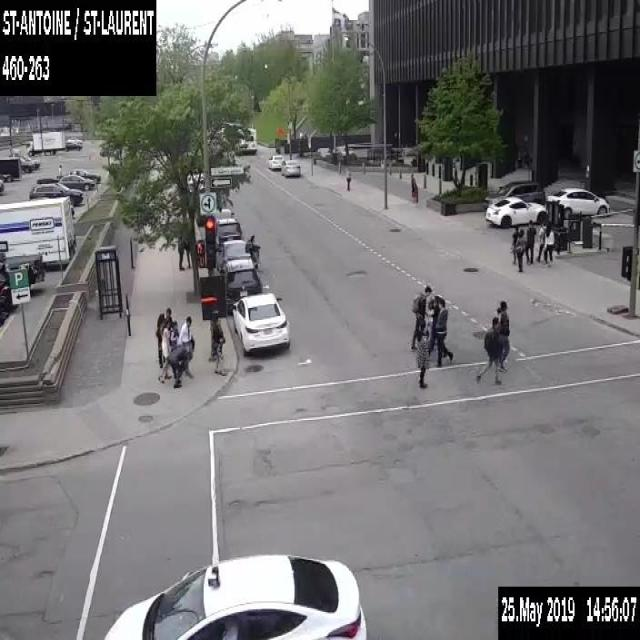bus: (236, 126, 256, 154)
construction: (276, 125, 283, 136)
pedestrian: (476, 315, 501, 384), (409, 285, 432, 350), (434, 298, 452, 367), (166, 344, 192, 387), (496, 300, 510, 372), (178, 315, 194, 377), (416, 319, 430, 388), (428, 294, 442, 353), (158, 319, 170, 382), (214, 318, 226, 375), (155, 312, 165, 368), (244, 233, 262, 263), (169, 319, 178, 377), (542, 221, 553, 266), (525, 218, 535, 264), (535, 220, 546, 260), (514, 228, 524, 271), (509, 225, 519, 263), (178, 238, 185, 270), (410, 173, 417, 203), (163, 307, 172, 325), (184, 247, 192, 267), (58, 163, 62, 178)
vehicle: (104, 550, 367, 638), (0, 194, 75, 270), (232, 292, 289, 352), (221, 256, 262, 314), (484, 196, 548, 228), (546, 186, 610, 218), (483, 179, 545, 209), (28, 177, 82, 205), (216, 238, 260, 270), (21, 129, 65, 155), (214, 217, 242, 249), (56, 167, 100, 182), (0, 269, 11, 324), (58, 173, 94, 189), (0, 157, 21, 180), (280, 158, 301, 176), (21, 154, 40, 168), (268, 153, 283, 170), (20, 156, 35, 172), (215, 207, 234, 219), (65, 141, 82, 150), (65, 136, 83, 143), (0, 179, 4, 192), (70, 204, 74, 216)
